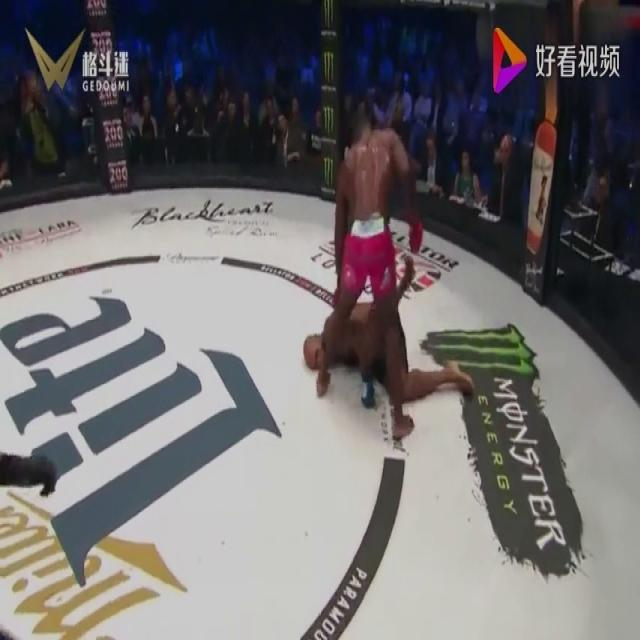fight: (288, 64, 464, 453)
